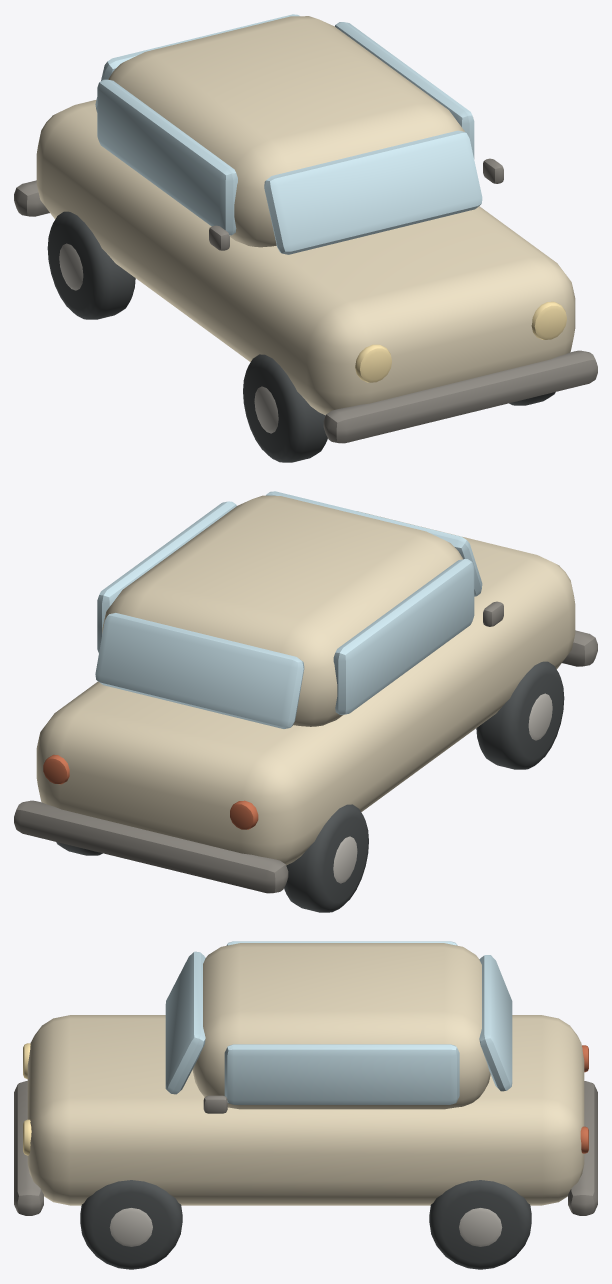
File: car_cream.glb
3 renders of one model, top to bottom at view 1: azimuth 30°, elevation 25°; view 2: azimuth 150°, elevation 25°; view 3: azimuth 270°, elevation 25°, orthographic. The views are drawn at different scales.
Visible parts, largest first — view 1: car_cream.001, glass, steel_dark, rubber, light, steel; view 2: car_cream.001, glass, rubber, steel_dark, steel, food_c; view 3: car_cream.001, glass, rubber, steel_dark, steel, light.
Boxes of the visible parts, x1,y1,x2,y2 form: car_cream.001: (36,16,575,415); glass: (95,14,482,254); steel_dark: (14,158,597,443); rubber: (47,211,555,462); light: (355,301,566,382); steel: (59,243,278,433); car_cream.001: (36,495,575,865); glass: (95,491,482,728); rubber: (56,661,564,912); steel_dark: (14,601,597,893); steel: (333,693,552,883); food_c: (43,754,258,829); car_cream.001: (27,943,584,1205); glass: (165,941,512,1104); rubber: (80,1180,531,1269); steel_dark: (14,1081,597,1215); steel: (109,1208,502,1246); light: (23,1043,31,1155).
Bounding box in the file's own units: 0.98 × 0.86 × 1.94.
